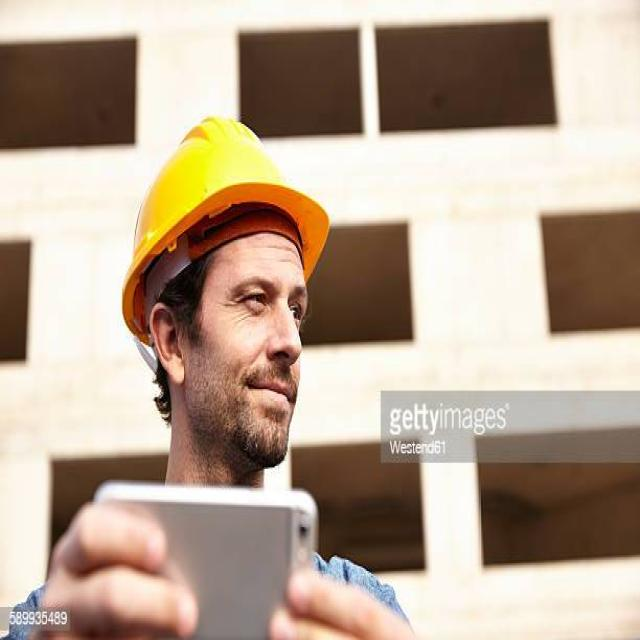helmet: (92, 100, 344, 303)
no-goggles: (182, 275, 322, 332)
